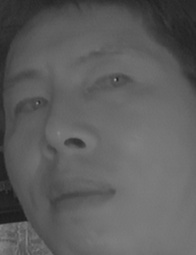eye: (88, 69, 134, 103), (12, 94, 47, 119)
mouth: (43, 173, 118, 222)
